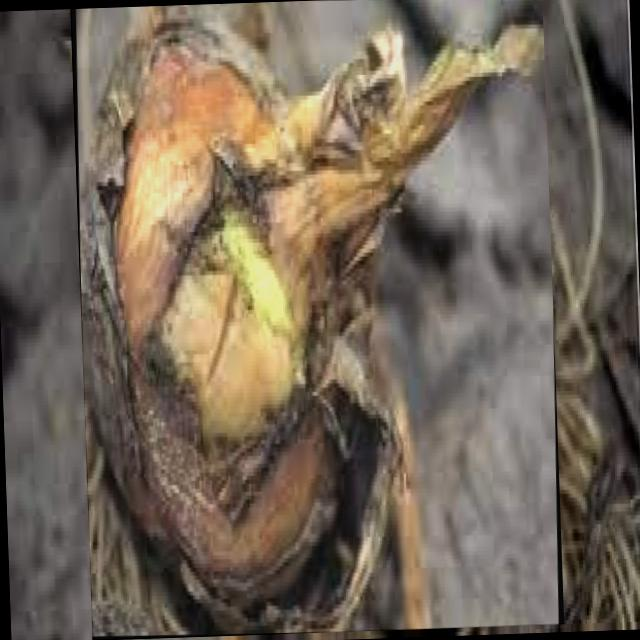rotten: (79, 5, 543, 632)
